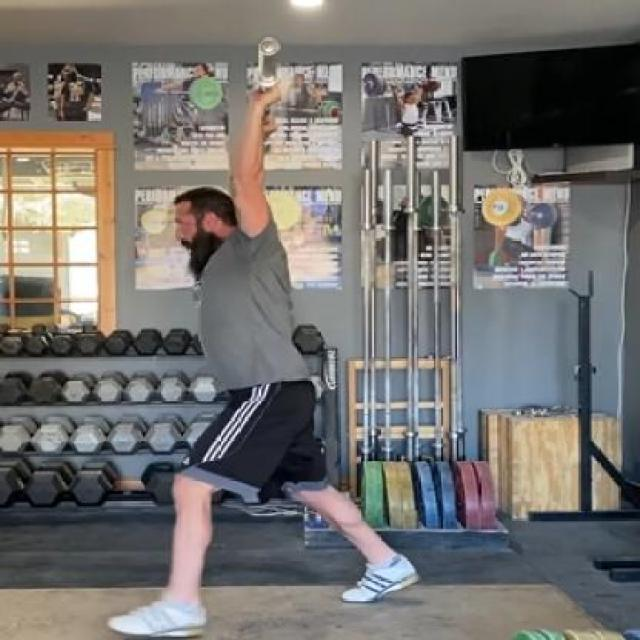Barbell: (255, 32, 283, 60)
